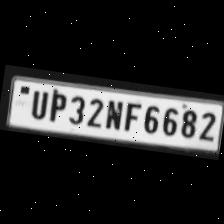2: (195, 107, 219, 142), (83, 93, 105, 128)
3: (64, 90, 86, 124)
6: (140, 100, 162, 134), (159, 102, 180, 136)
8: (176, 104, 199, 138)
F: (120, 98, 142, 132)
N: (102, 96, 124, 130)
P: (45, 87, 68, 121)
U: (25, 86, 50, 119)
